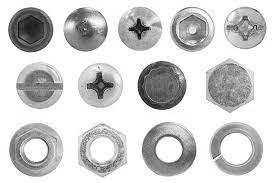screw: (205, 57, 255, 113)
